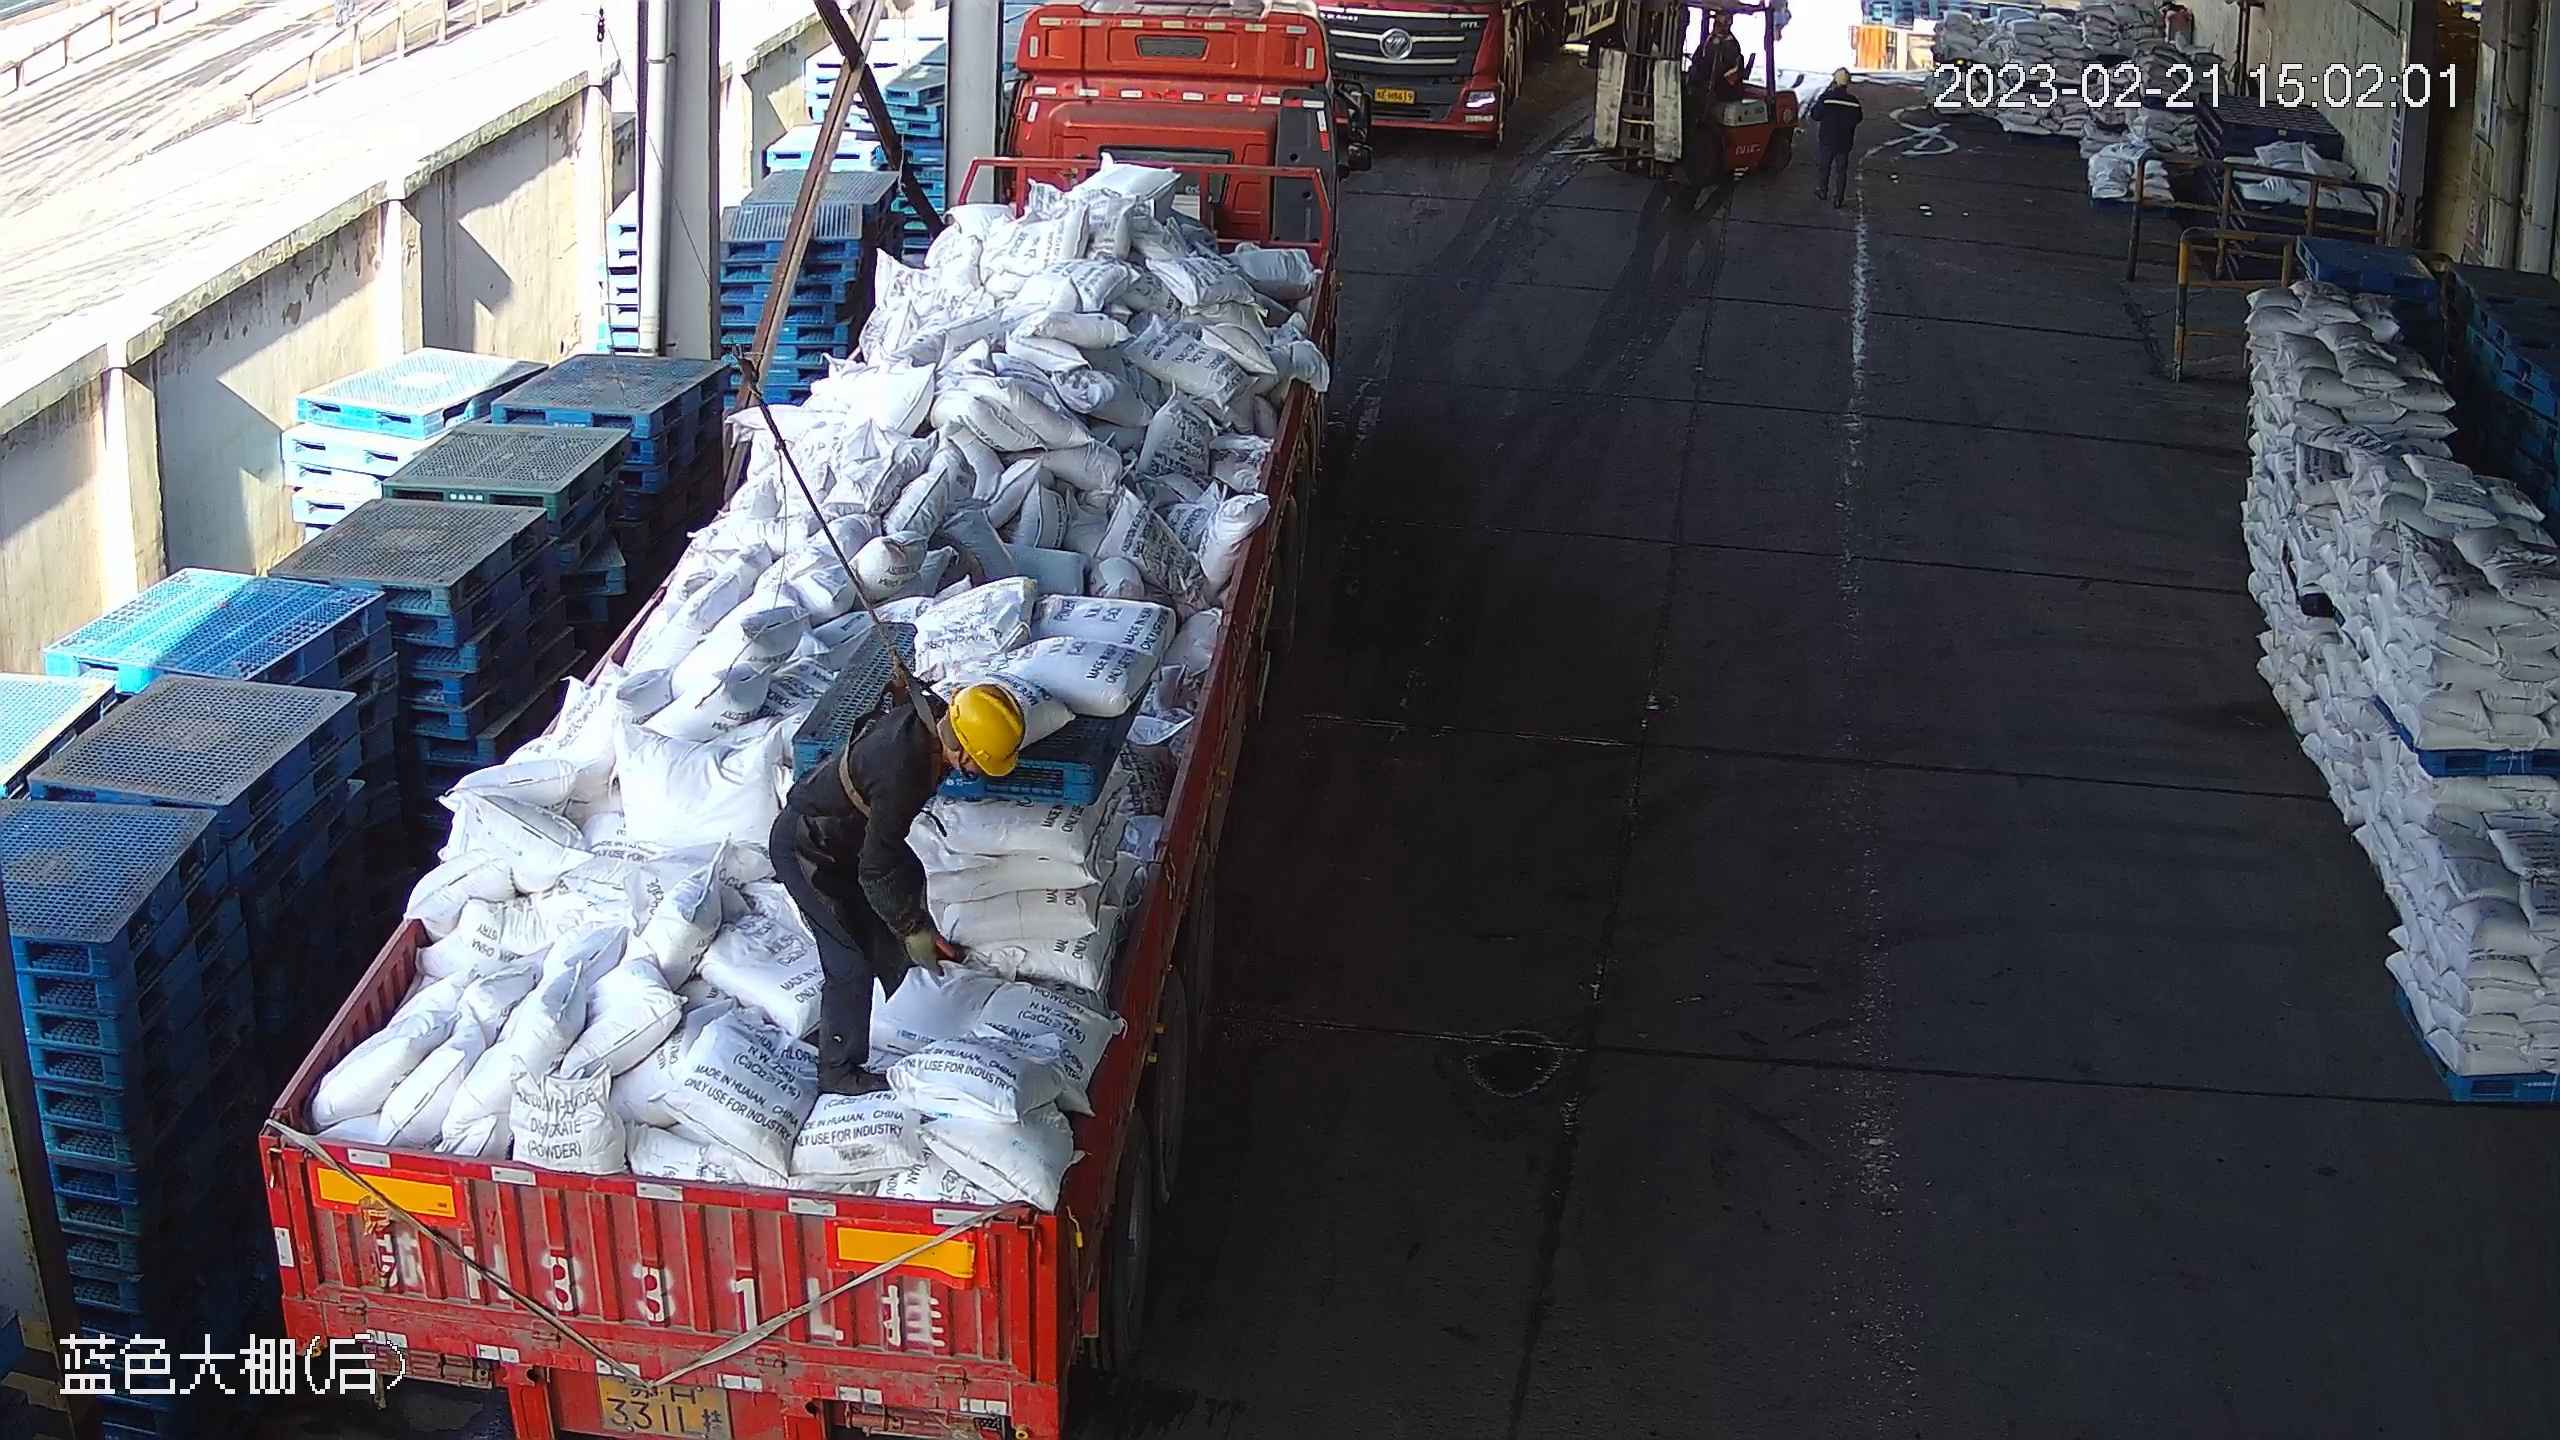belt: (835, 682, 961, 813)
head: (848, 667, 1016, 819)
helmet: (938, 673, 1022, 788)
people: (759, 668, 1029, 1103), (1809, 66, 1870, 201)
truck: (248, 8, 1355, 1440), (1314, 1, 1518, 162)
